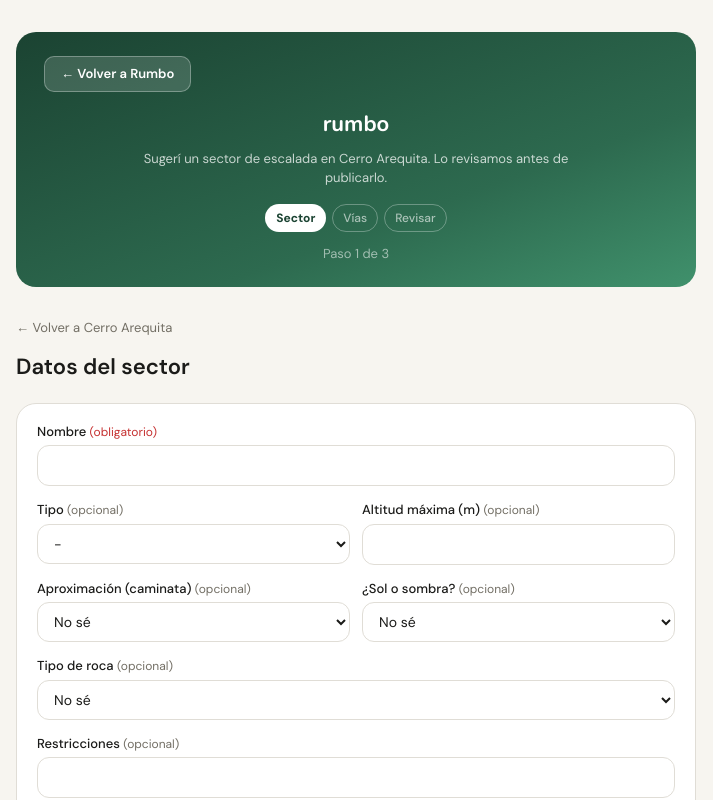
Test: AgregarLugar por link directo: queda fijo en eso › Empezar de cero vuelve al formulario del sector, vacío
Check: the heading "Datos del sector" is shown, box 16,352 -> 190,380
Type "Placa Sur" into the field named "Nombre del sector".
click(356, 466); type("Placa Sur")  # box 37,445 -> 675,486
(page scrolled)
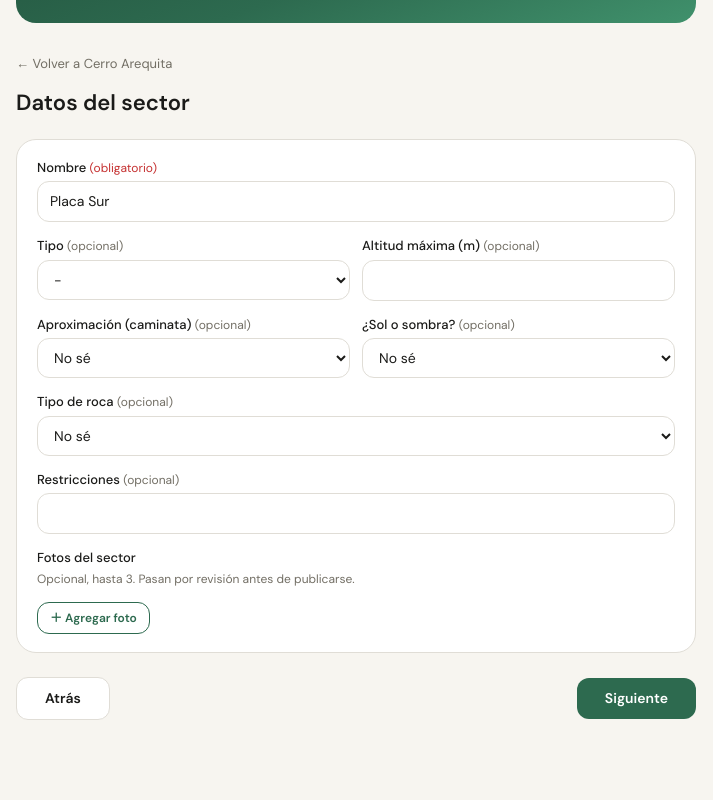
Click the button "Siguiente".
click(636, 698)  # box 577,678 -> 696,718
(page scrolled)
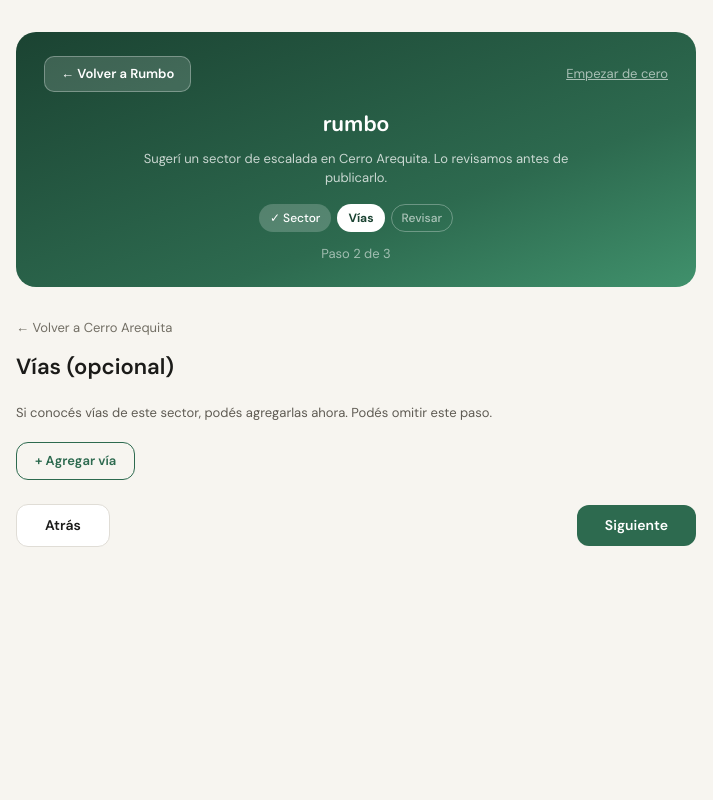
Check: the text "Paso 2 de 3" is shown, box 321,244 -> 391,262
Click the button "Empezar de cero".
click(617, 74)  # box 566,64 -> 668,84
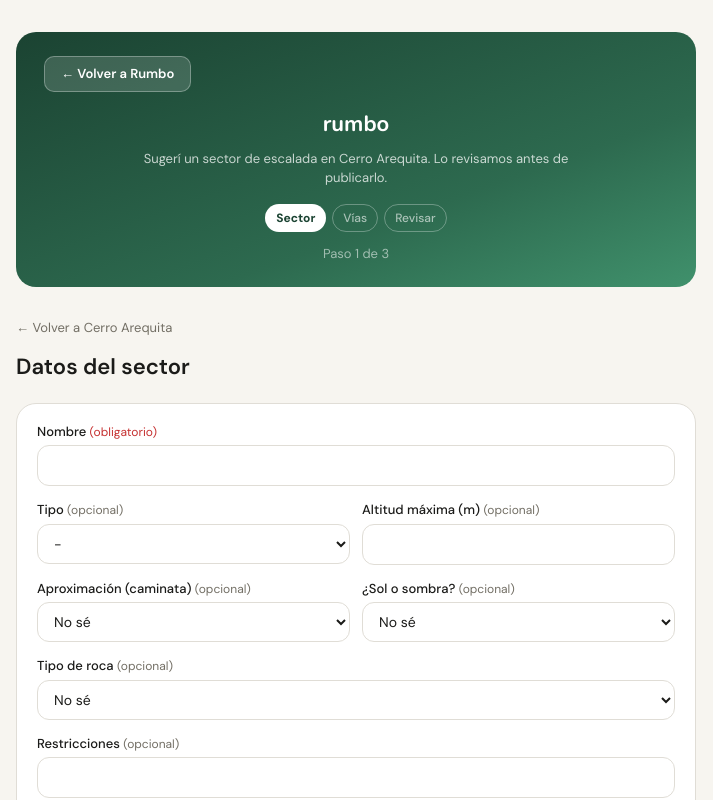
Check: the heading "Datos del sector" is shown, box 16,352 -> 190,380
Check: the field named "Nombre del sector" is empty, box 37,445 -> 675,486
Check: the text "Paso 1 de 3" is shown, box 323,244 -> 389,262
